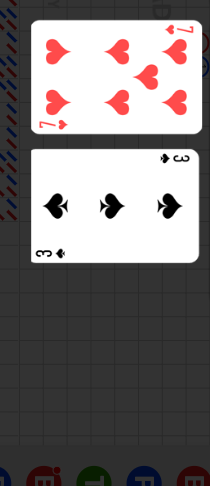3S: (35, 246, 68, 260)
7H: (163, 24, 195, 37)
